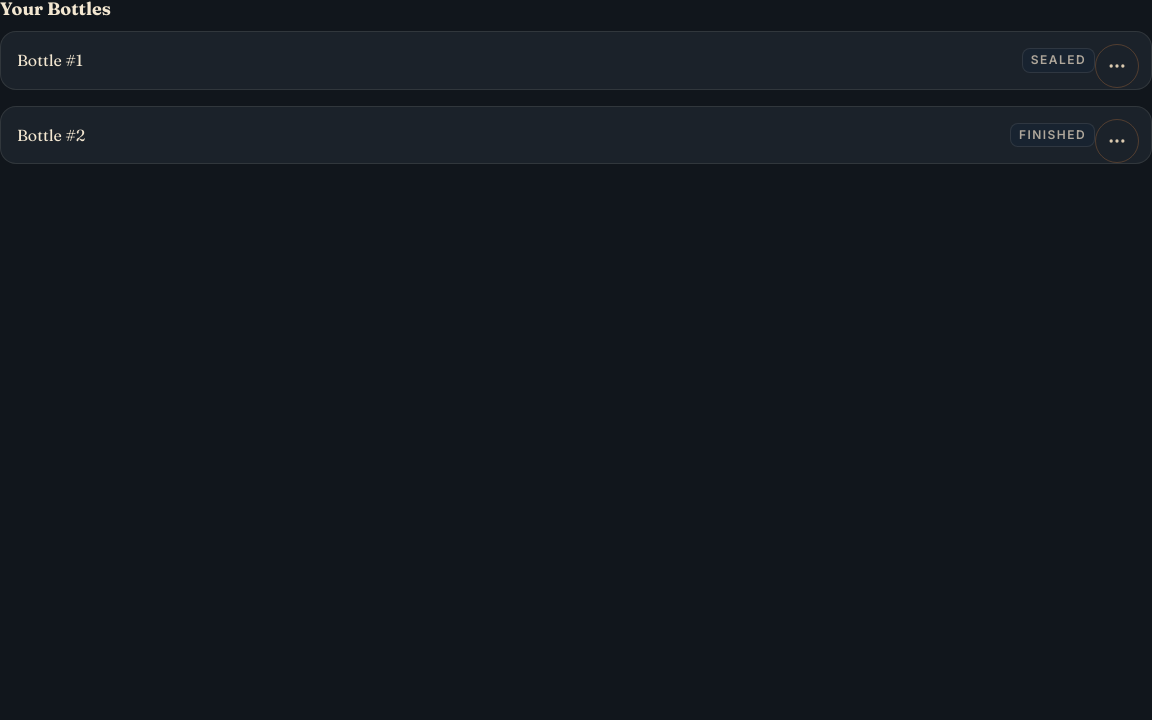
it: YourBottlesSection › deleting an instance with pour history shows the stronger warning
Click the button named "Bottle #2 actions": (1117, 141) [1095,119,1139,163]
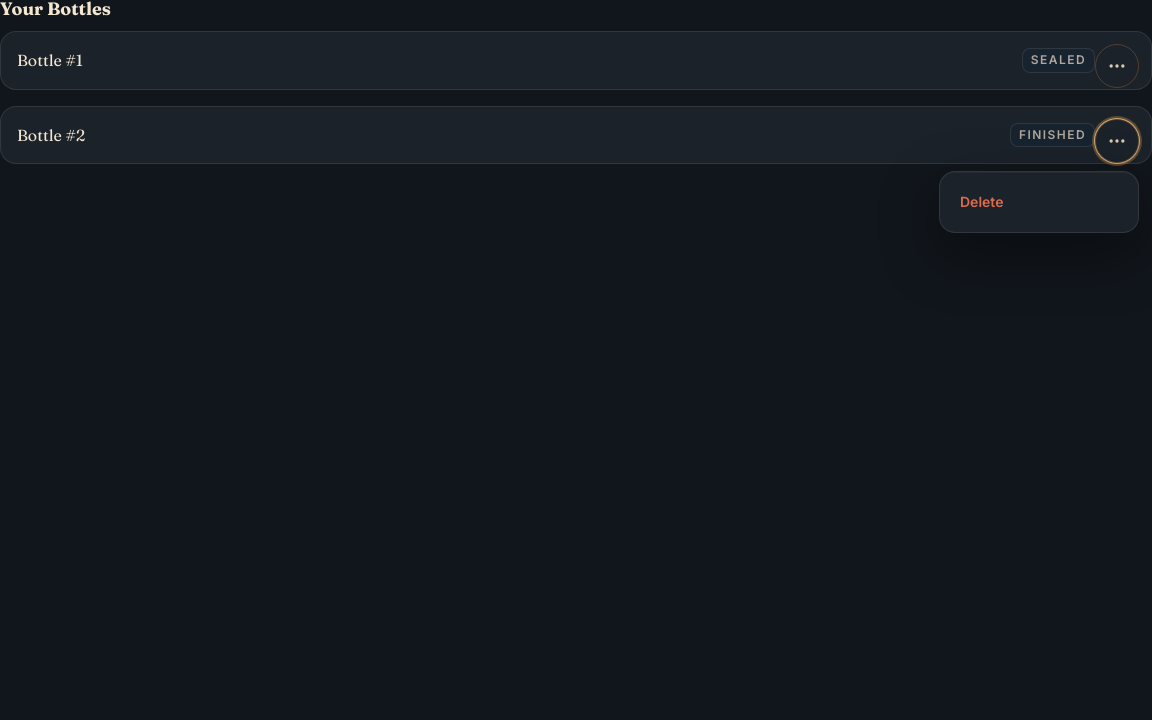
Click the menu item "Delete": (1039, 202) [948,180,1130,224]
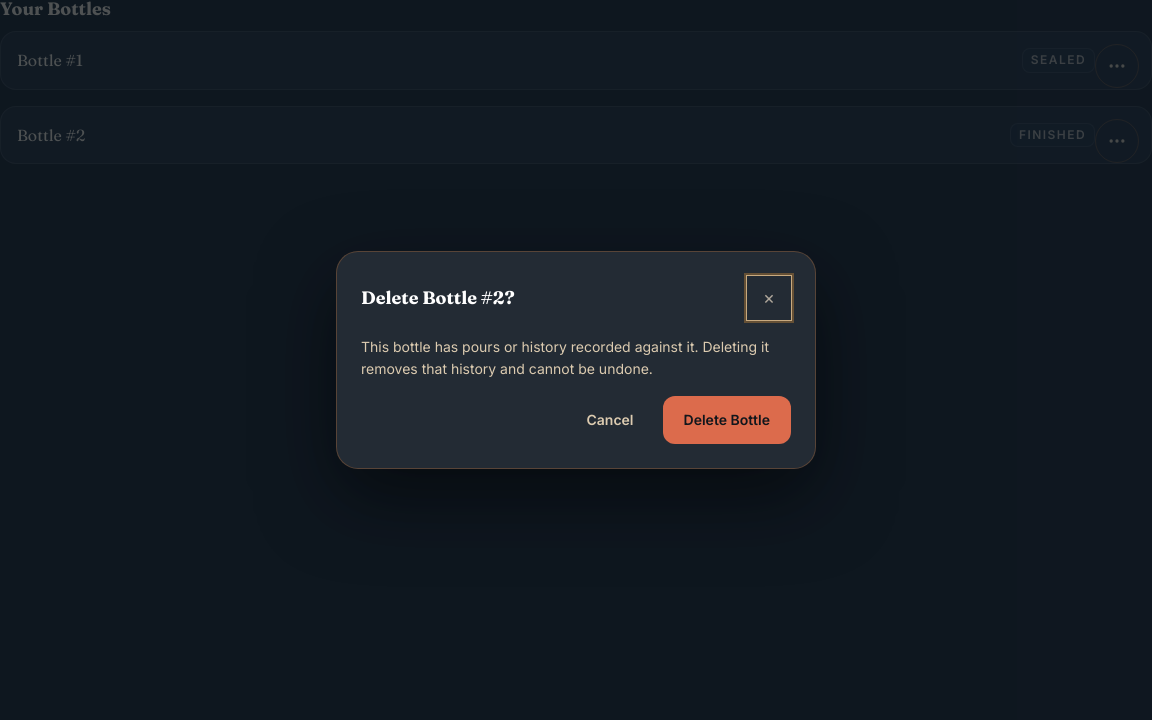
expect the text "pours or history recorded against it" is shown: met, box [361,338,769,377]
